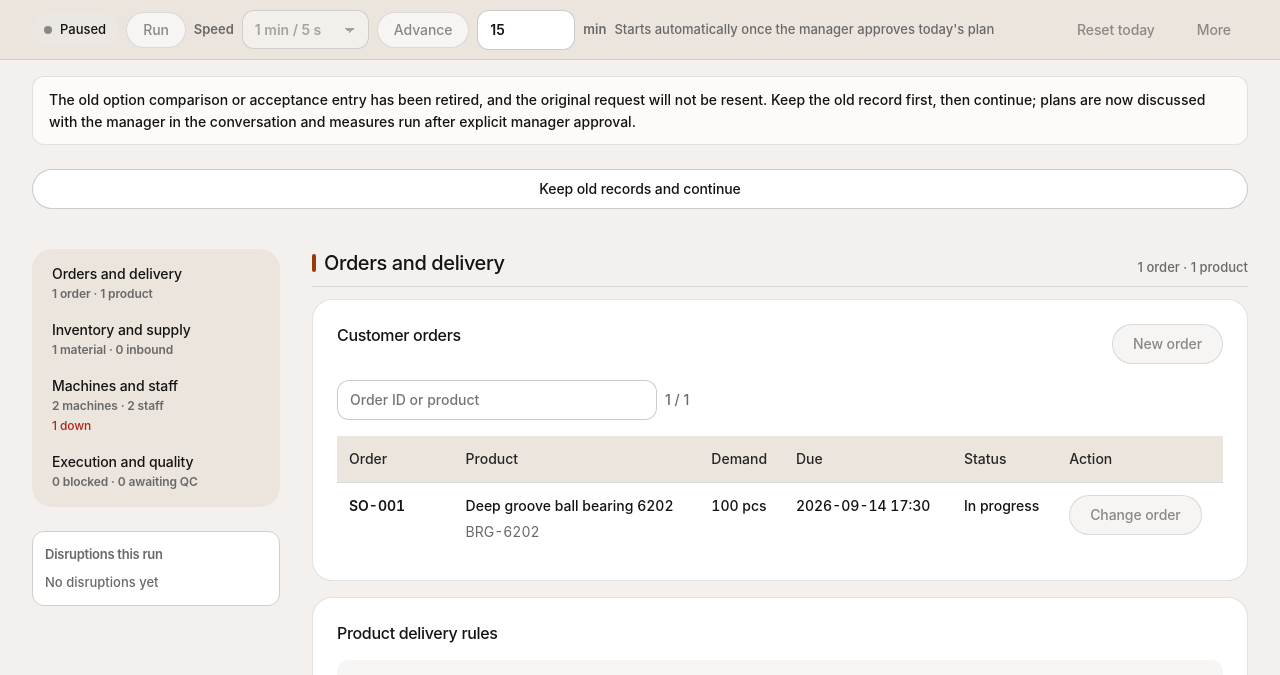
an old administrator business acceptance pending record is neither resent nor overwritten
expect the text "The old option comparison or acceptance entry has been retired" is shown: met, box x1=49 y1=91 x2=1205 y2=130
Click the button "Keep old records and continue".
click(640, 189)  # box x1=32 y1=169 x2=1248 y2=209
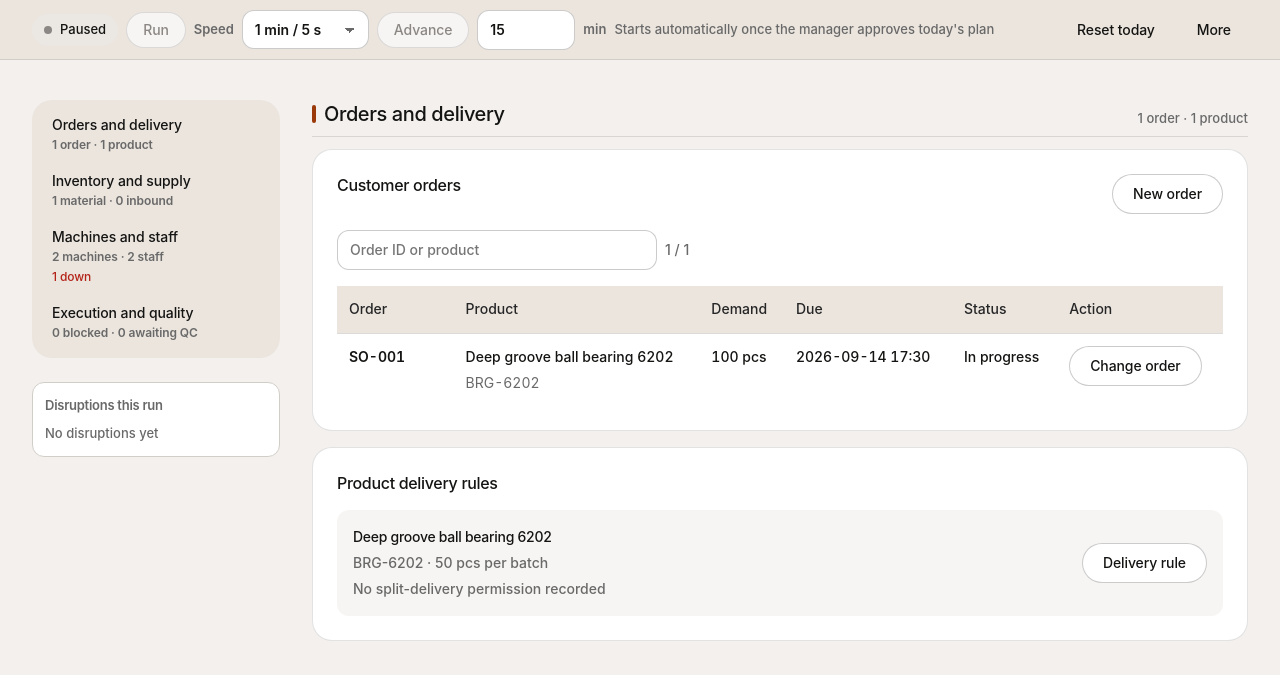
expect the button "Keep old records and continue" is gone: met
expect the text "The old option comparison or acceptance entry has been retired" is gone: met
expect the button with aria-label "Change order SO-001" is enabled: met, box x1=1069 y1=346 x2=1202 y2=386
